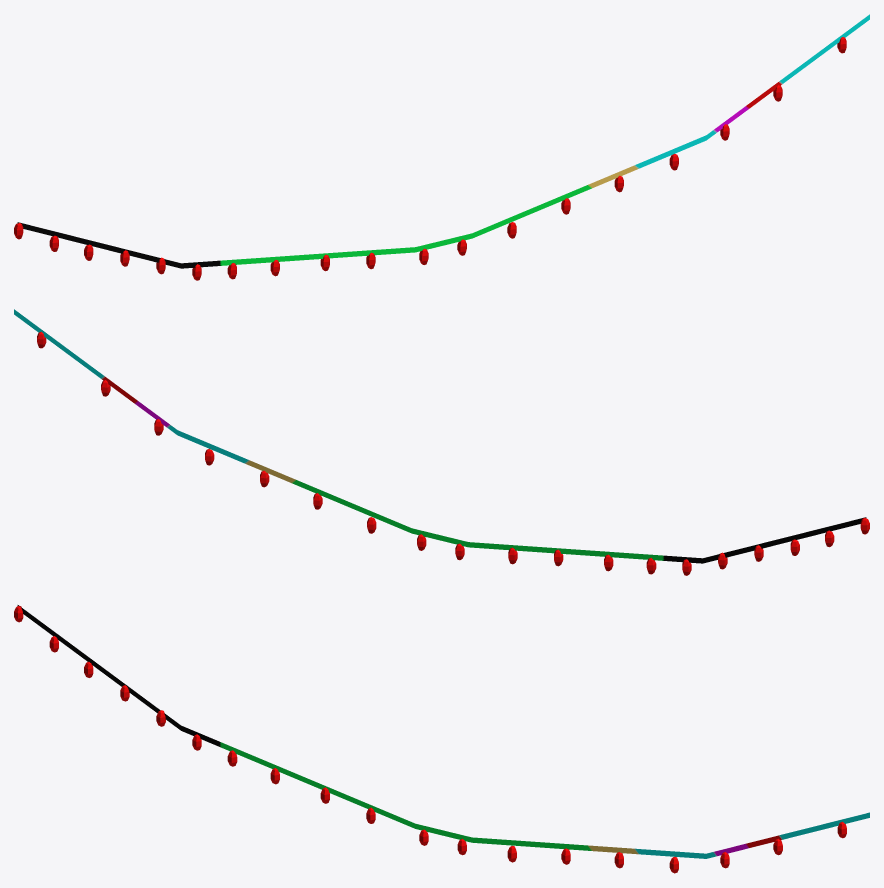
Rendered from Bent_Lights.fbx.
3 views of the same model, one above another, from view 1: azimuth 30°, elevation 25°; view 2: azimuth 150°, elevation 25°; view 3: azimuth 330°, elevation 25° (orthographic).
Parts seen in each view (by area): view 1: Geo_Bent_Lights; view 2: Geo_Bent_Lights; view 3: Geo_Bent_Lights.
Boxes of the visible parts, x1=… form: Geo_Bent_Lights: x1=14, y1=14, x2=869, y2=280; Geo_Bent_Lights: x1=14, y1=309, x2=869, y2=575; Geo_Bent_Lights: x1=14, y1=605, x2=869, y2=873.
Bounding box in the file's own units: 167 × 26.6 × 1.62.
Materials: 1 (1 with a texture image).
